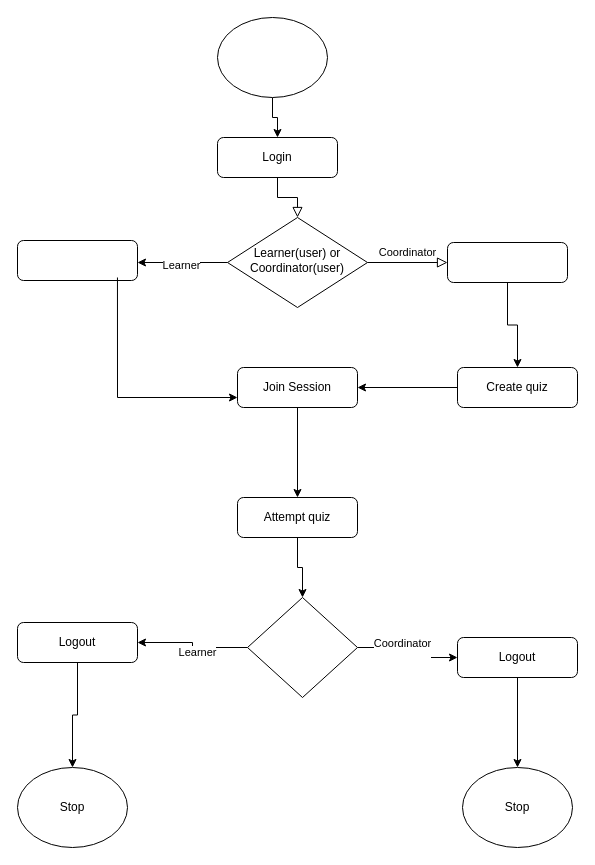
This 595x865 diagram has some shape labels left out. The centre of each missing label's shape, as x and y in pixels:
"Coordinator(user) or Learner(user)" belongs at [302,647].
"Create Session" belongs at [507,262].
"Start" belongs at [272,57].
"View Session" belongs at [77,260].
